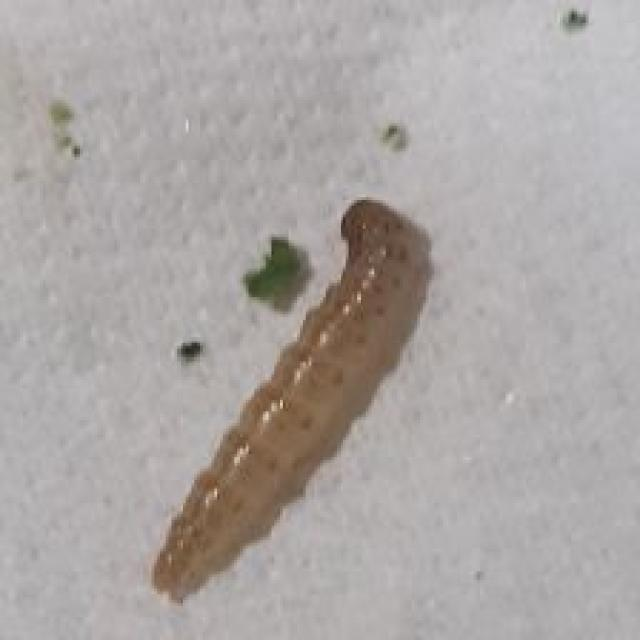white mucus: (129, 192, 446, 596)
